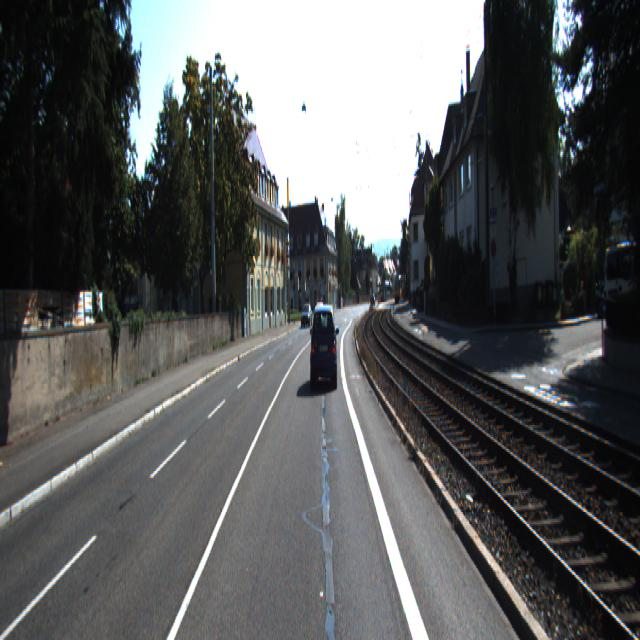Car: (309, 302, 339, 393), (302, 304, 312, 328)
